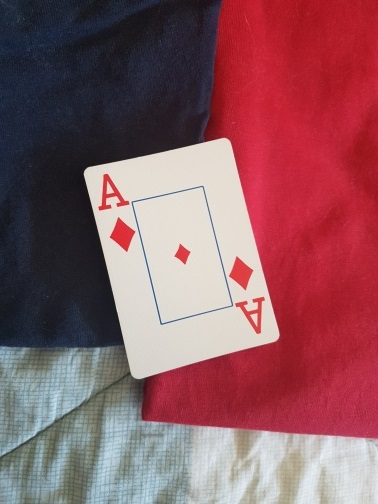ace: (83, 136, 281, 379)
